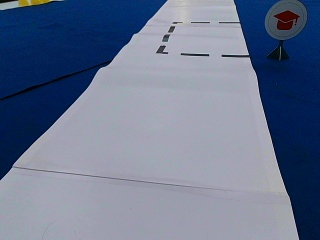school: (264, 1, 307, 38)
